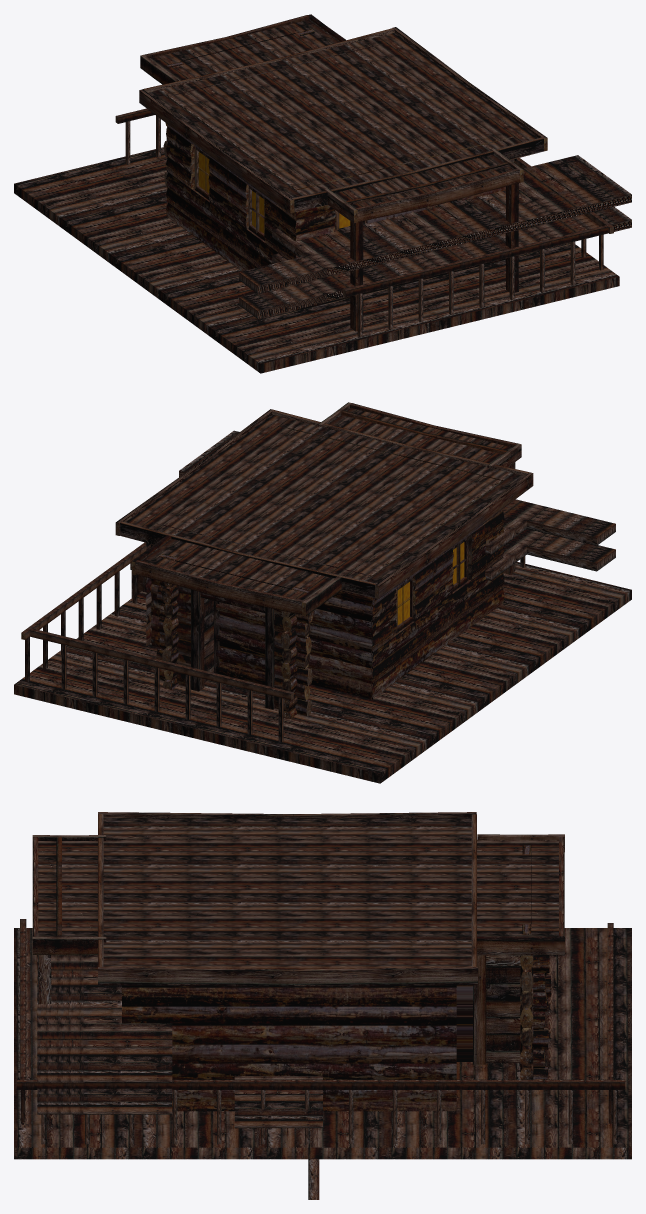
The model's file is shop.glb.
3 renders of one model, top to bottom at view 1: azimuth 30°, elevation 25°; view 2: azimuth 150°, elevation 25°; view 3: azimuth 270°, elevation 25°, orthographic. The views are drawn at different scales.
Visible parts, largest first — view 1: Cube.024, Cube.010, Cube.006, Cube.023, Cube.002, Cube.063, Cube.059, Cube.931, Cube.003, Cube.930, Cube.062, Cube.065 (+9 smaller); view 2: Cube.024, Cube.010, Cube.023, Cube.004, Cube.006, Cube.002, Cube.063, Cube.068, Cube.019, Cube.928, Cube.929, Cube.065 (+16 smaller); view 3: Cube.024, Cube.010, Cube.005, Cube.006, Cube.064, Cube.912, Cube.073, Cube.002, Cube.001, Cube.913, Cube.063, Cube.013 (+14 smaller).
Boxes of the visible parts, x1=… form: Cube.024: x1=148, y1=19, x2=537, y2=207; Cube.010: x1=14, y1=147, x2=619, y2=373; Cube.006: x1=239, y1=155, x2=631, y2=293; Cube.023: x1=166, y1=96, x2=296, y2=310; Cube.002: x1=239, y1=207, x2=631, y2=318; Cube.063: x1=139, y1=89, x2=294, y2=213; Cube.059: x1=355, y1=168, x2=519, y2=222; Cube.931: x1=343, y1=225, x2=608, y2=296; Cube.003: x1=295, y1=136, x2=514, y2=310; Cube.930: x1=357, y1=241, x2=575, y2=337; Cube.062: x1=292, y1=137, x2=543, y2=212; Cube.065: x1=143, y1=28, x2=394, y2=92; Cube.024: x1=125, y1=408, x2=523, y2=600; Cube.010: x1=14, y1=562, x2=631, y2=783; Cube.023: x1=371, y1=480, x2=504, y2=699; Cube.004: x1=151, y1=522, x2=372, y2=699; Cube.006: x1=179, y1=430, x2=615, y2=554; Cube.002: x1=485, y1=529, x2=615, y2=580; Cube.063: x1=375, y1=472, x2=533, y2=598; Cube.068: x1=135, y1=560, x2=303, y2=614; Cube.019: x1=175, y1=560, x2=291, y2=708; Cube.928: x1=30, y1=628, x2=293, y2=700; Cube.929: x1=61, y1=644, x2=283, y2=742; Cube.065: x1=120, y1=521, x2=376, y2=597; Cube.024: x1=35, y1=818, x2=561, y2=969; Cube.010: x1=14, y1=928, x2=631, y2=1159; Cube.005: x1=122, y1=985, x2=456, y2=1111; Cube.006: x1=37, y1=955, x2=172, y2=1082; Cube.064: x1=98, y1=967, x2=477, y2=987; Cube.912: x1=16, y1=1079, x2=625, y2=1089; Cube.073: x1=486, y1=955, x2=521, y2=1063; Cube.002: x1=37, y1=1088, x2=172, y2=1114; Cube.001: x1=234, y1=1076, x2=322, y2=1128; Cube.913: x1=41, y1=1090, x2=617, y2=1144; Cube.063: x1=98, y1=812, x2=476, y2=818; Cube.013: x1=520, y1=924, x2=533, y2=1079.
Bounding box in the file's own units: 15.39 × 6.21 × 17.27.
6 materials, 6 textured.
